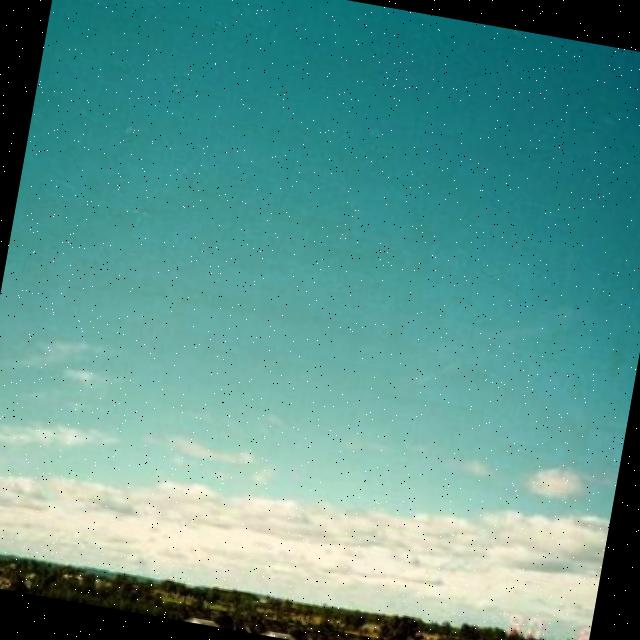Cs: (1, 231, 640, 617)
